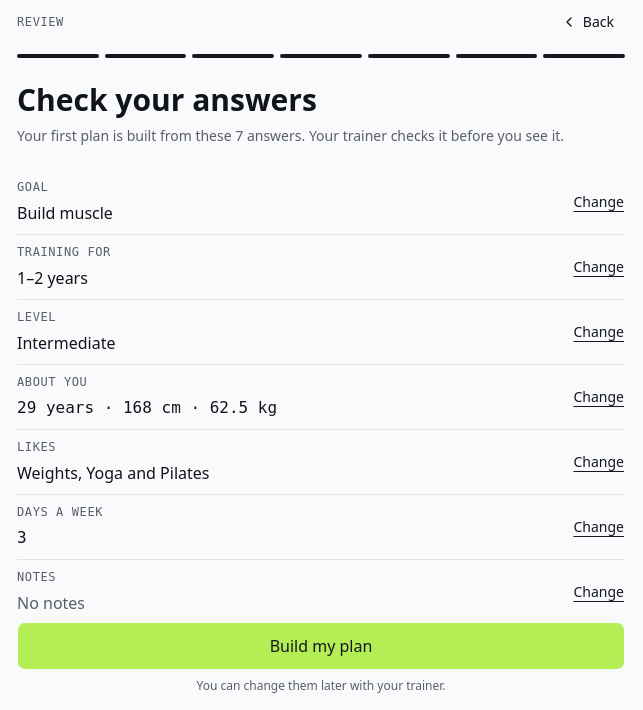
Test: ReviewPage › names each Change link for its row and opens its step
Click the link with aria-label "Change level" at (599, 332), box [574, 322, 624, 341]
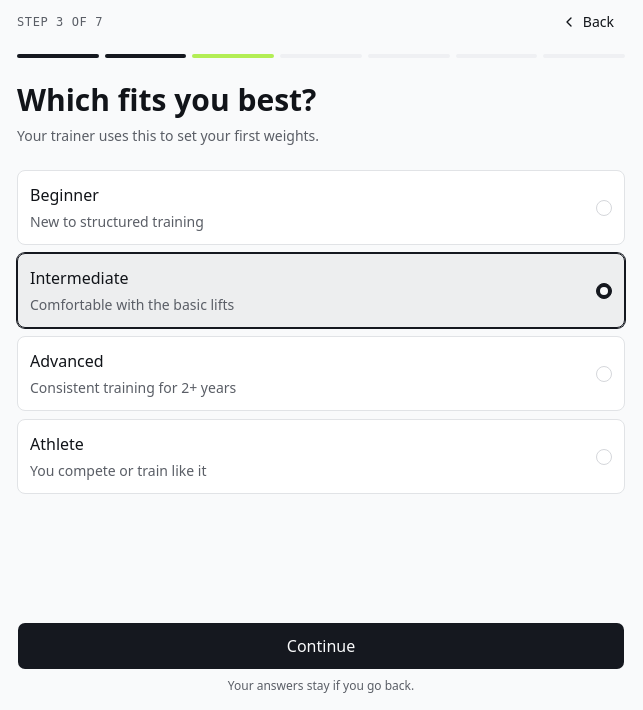
Now the heading "Which fits you best?" is shown, box [17, 79, 316, 120]
Now the radio button named "Intermediate" in the row of "Comfortable with the basic lifts" is checked, box [596, 283, 612, 299]
